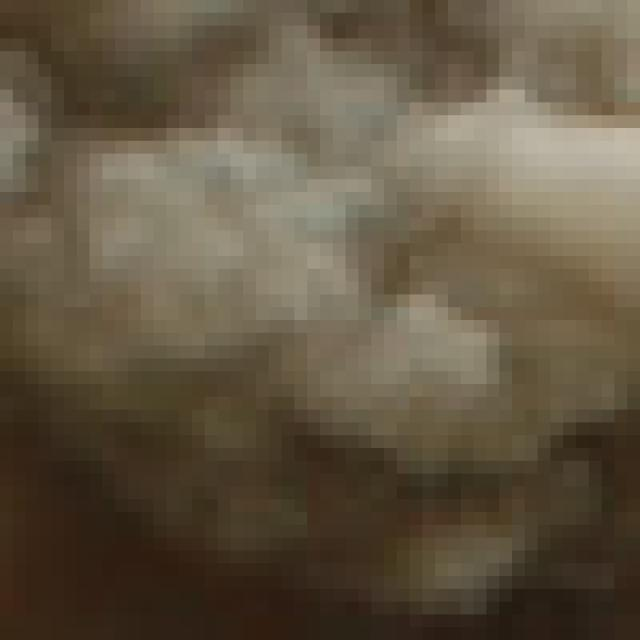no_fire: (13, 51, 614, 640)
